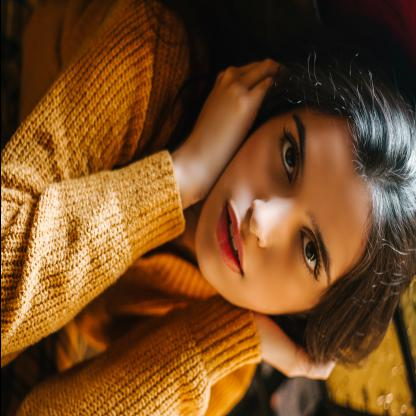Eye: (296, 216, 324, 289), (278, 124, 304, 188)
Mouth: (214, 190, 244, 284)
Nose: (247, 188, 303, 254)
